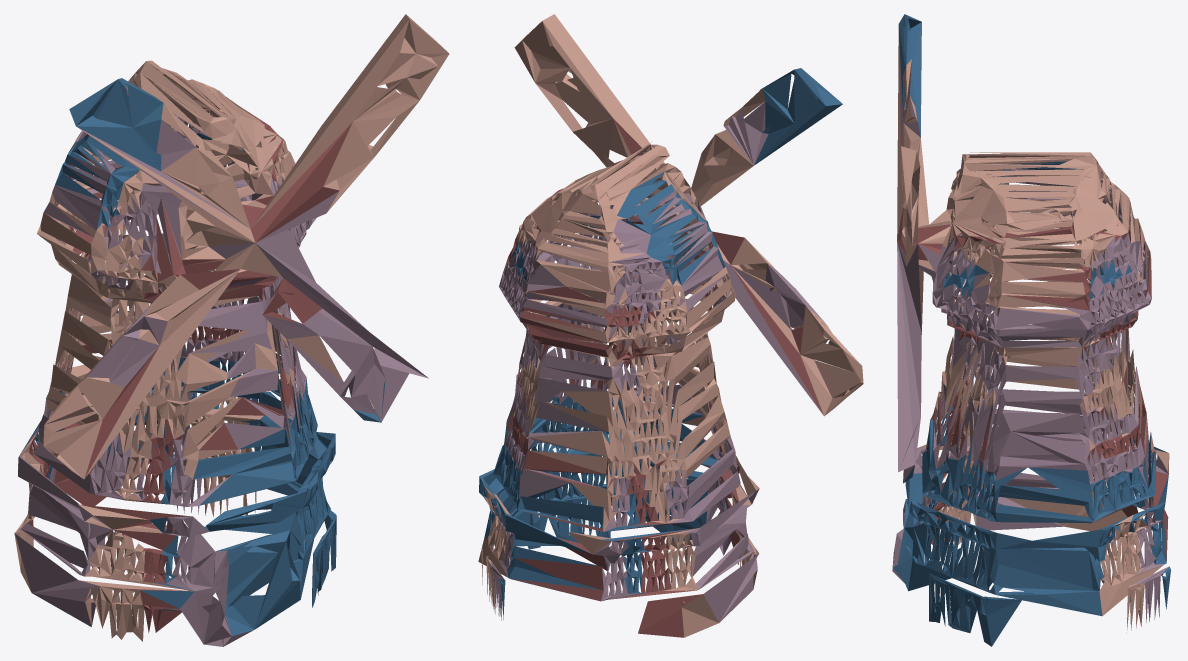
File: windmill.glb
3 renders of one model, left to right at view 1: azimuth 30°, elevation 25°; view 2: azimuth 150°, elevation 25°; view 3: azimuth 270°, elevation 25°, orthographic. The views are drawn at different scales.
Parts seen in each view (by area): view 1: geometry_0; view 2: geometry_0; view 3: geometry_0.
Part boxes in pixels (bbox=[...]): geometry_0: bbox=[14, 14, 449, 646]; geometry_0: bbox=[478, 14, 863, 637]; geometry_0: bbox=[892, 14, 1170, 646].
Bounding box in the file's own units: 1.42 × 1.95 × 0.959.
